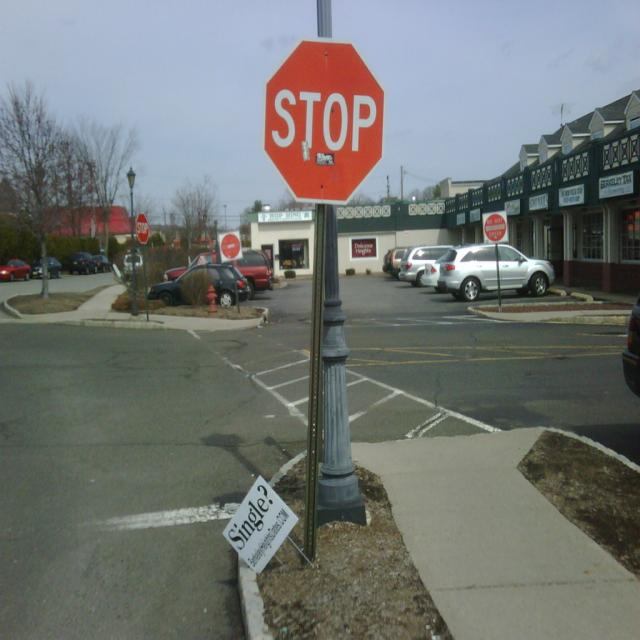Stop-sign: (260, 35, 386, 208)
